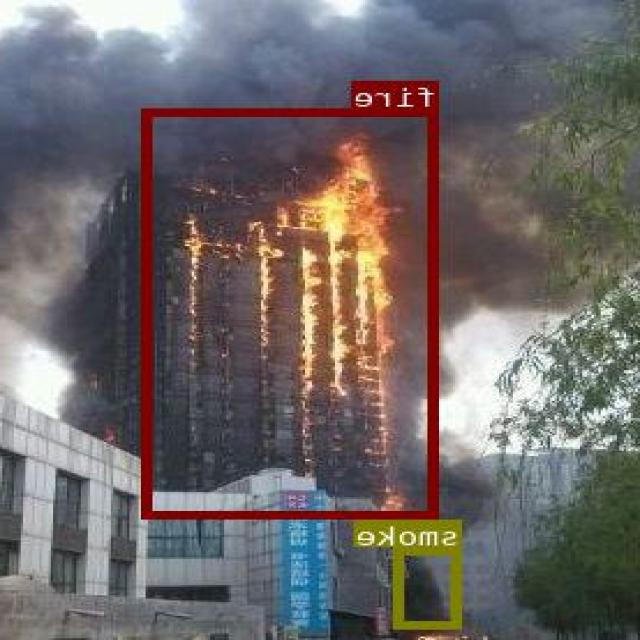fire: (146, 108, 440, 516)
smoke: (396, 547, 463, 627)
